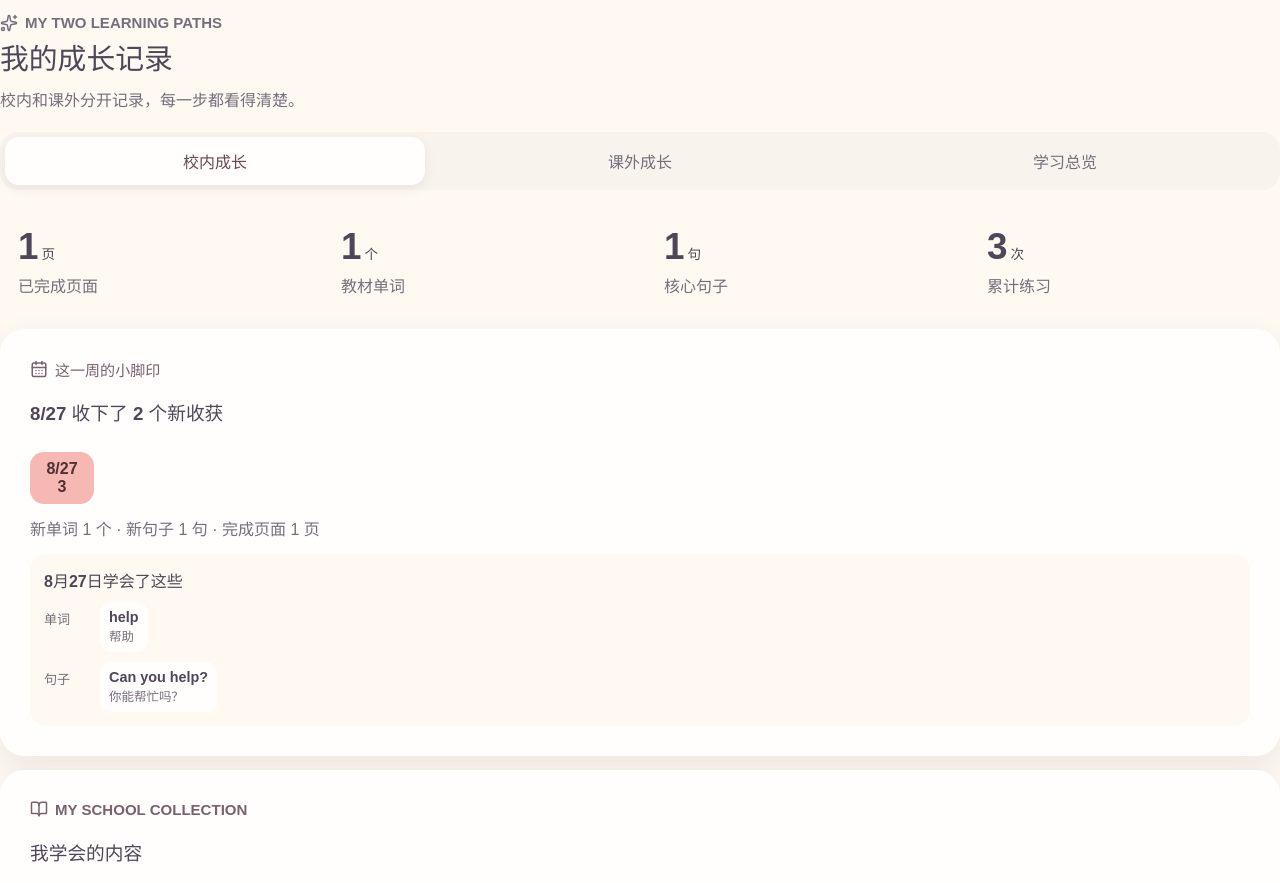
Test: DualTrackGrowth › keeps school and extracurricular growth in separate views
The image size is (1280, 883).
Check: the text "已完成页面" is shown, box [18,278,98,295]
Check: the text "这一周的小脚印" is shown, box [30,360,160,379]
Click the tab "课外成长": (640, 161) [430,137,850,185]
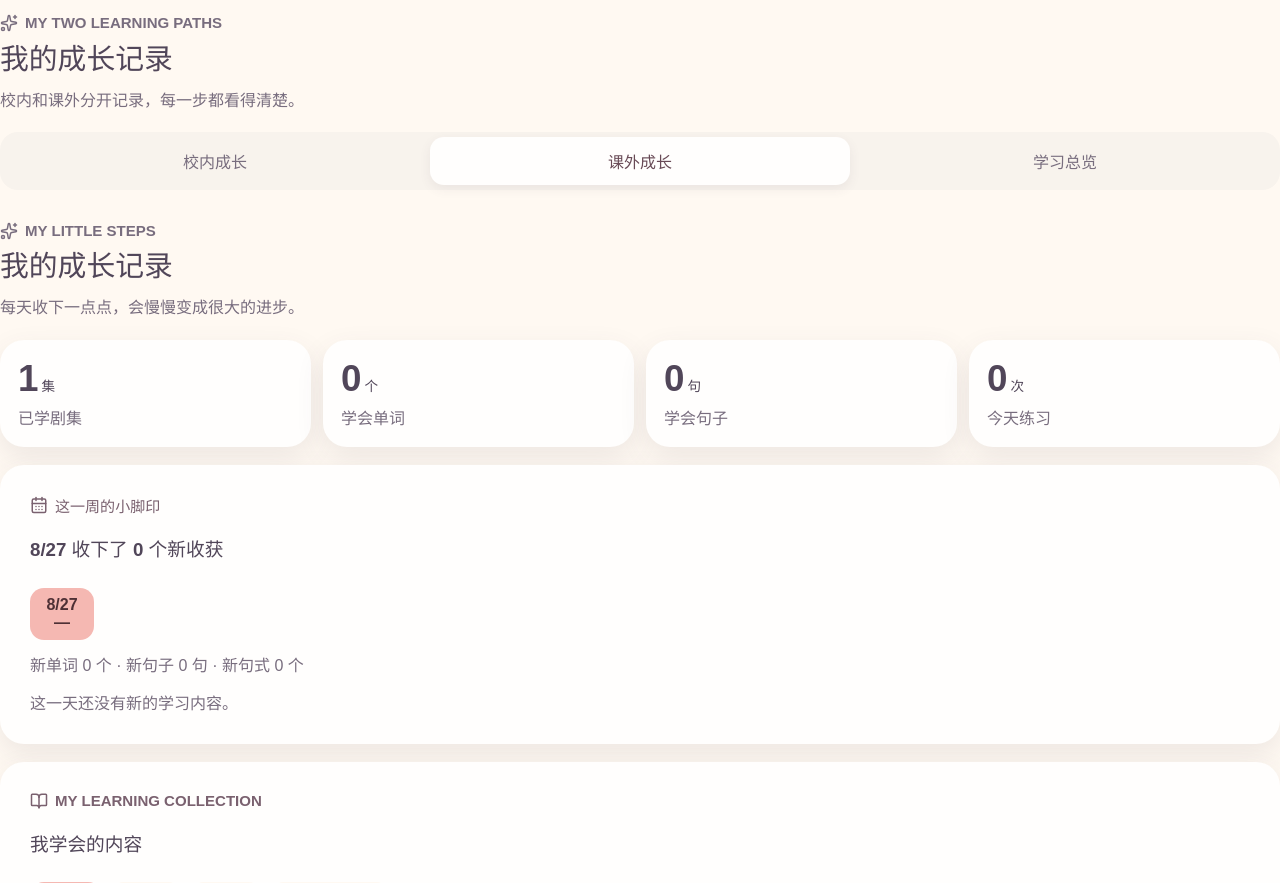
Check: the text "已学剧集" is shown, box [18,410,82,426]
Check: the text "已完成页面" is gone
